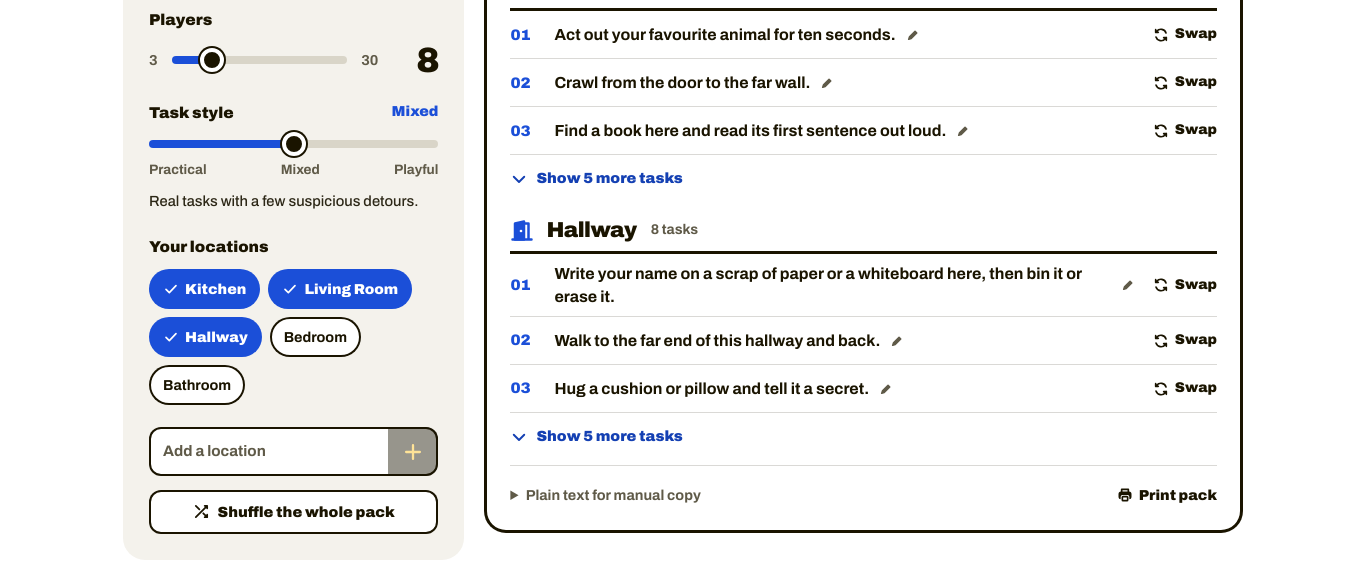
Test: blocks import until at least two locations remain
(page scrolled)
What coordinates should you click on to do the following:
click the checkbox labelled "Living Room"
I would click on:
 (340, 289)
Its box is [268,269,412,309].
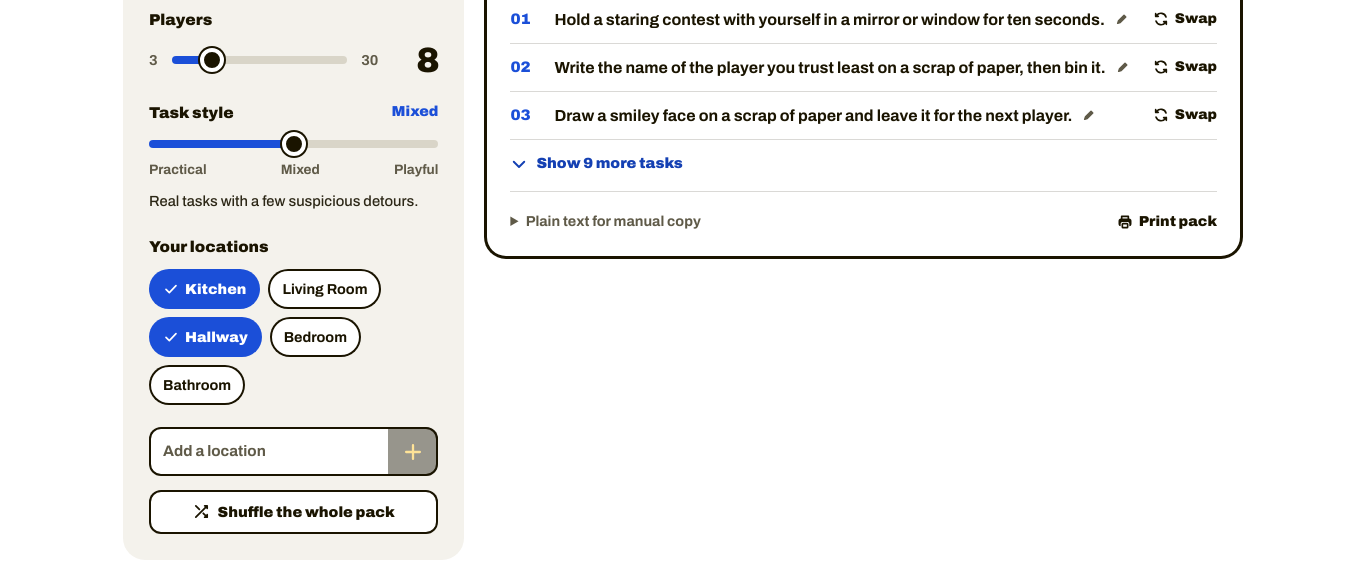
What coordinates should you click on to do the following:
click the checkbox labelled "Hallway"
I would click on:
 (205, 337)
Its box is [149,317,262,357].
(page scrolled)
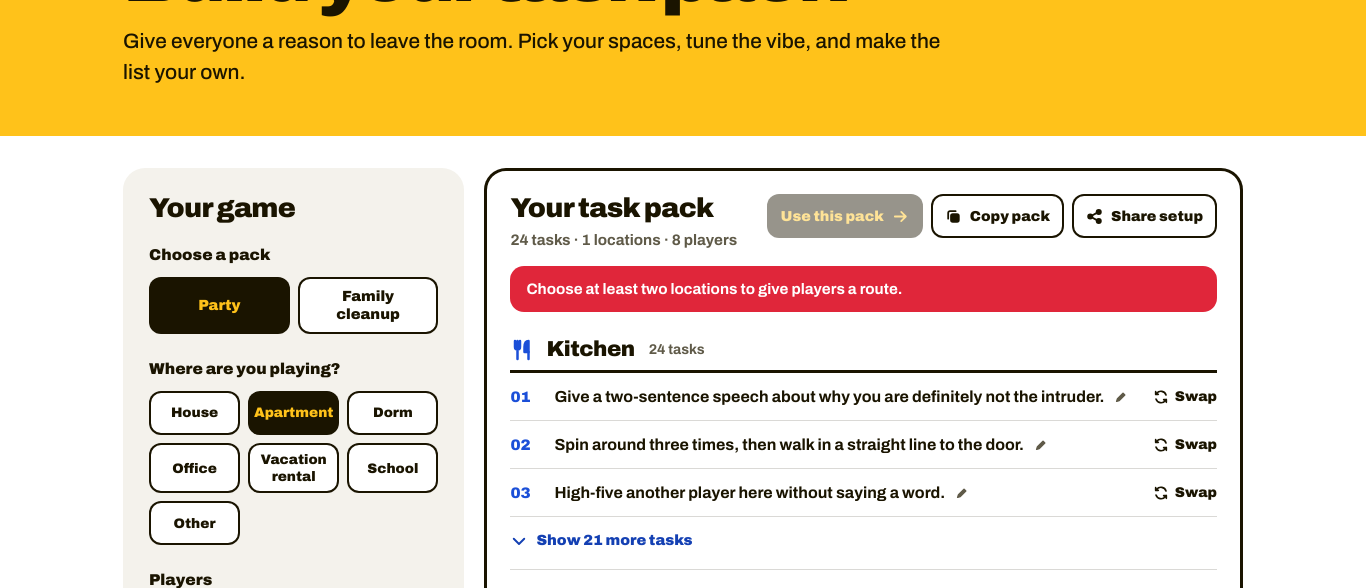
Result: the message "Choose at least two locations to give players a route." is shown at [510,266,1217,312]
